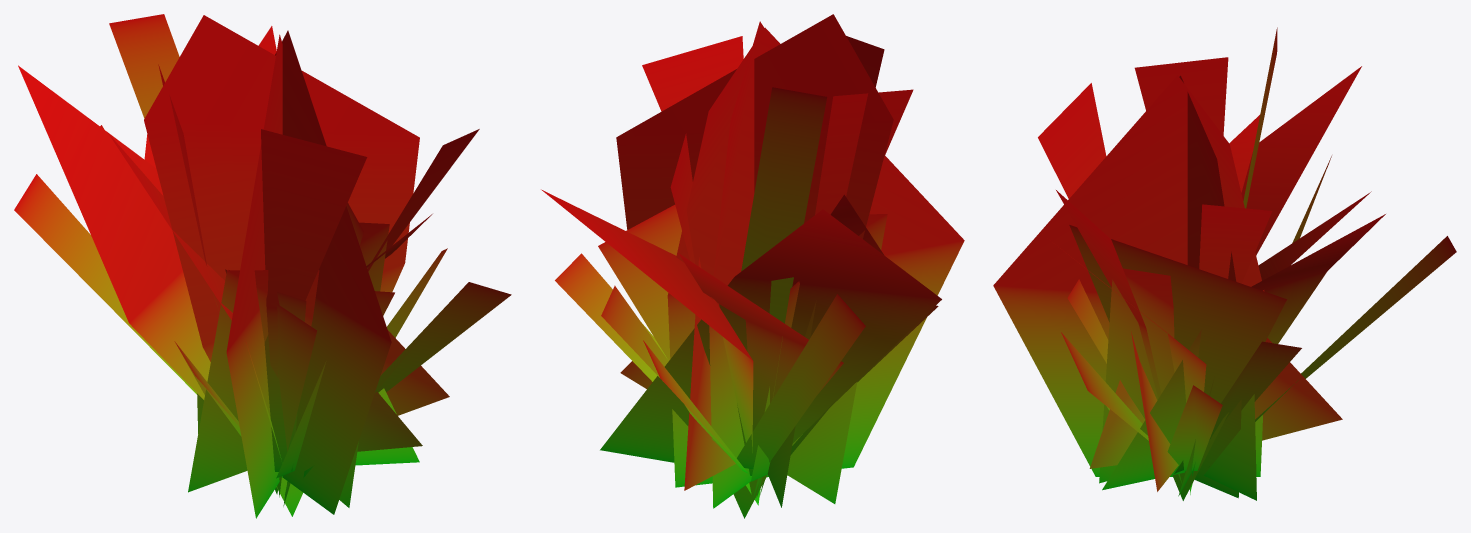
Rendered from Leafy Nineawn_LOD2_Var3_tlijciuia.fbx.
3 views of the same model, side by side, from view 1: azimuth 30°, elevation 25°; view 2: azimuth 150°, elevation 25°; view 3: azimuth 270°, elevation 25° (orthographic). The views are drawn at different scales.
Parts seen in each view (by area): view 1: _d9c4_Var3_LOD2; view 2: _d9c4_Var3_LOD2; view 3: _d9c4_Var3_LOD2.
Boxes of the visible parts, x1=… form: _d9c4_Var3_LOD2: x1=14, y1=14, x2=511, y2=518; _d9c4_Var3_LOD2: x1=541, y1=14, x2=964, y2=518; _d9c4_Var3_LOD2: x1=993, y1=27, x2=1456, y2=500.
Bounding box in the file's own units: 11.73 × 15.93 × 14.35.
